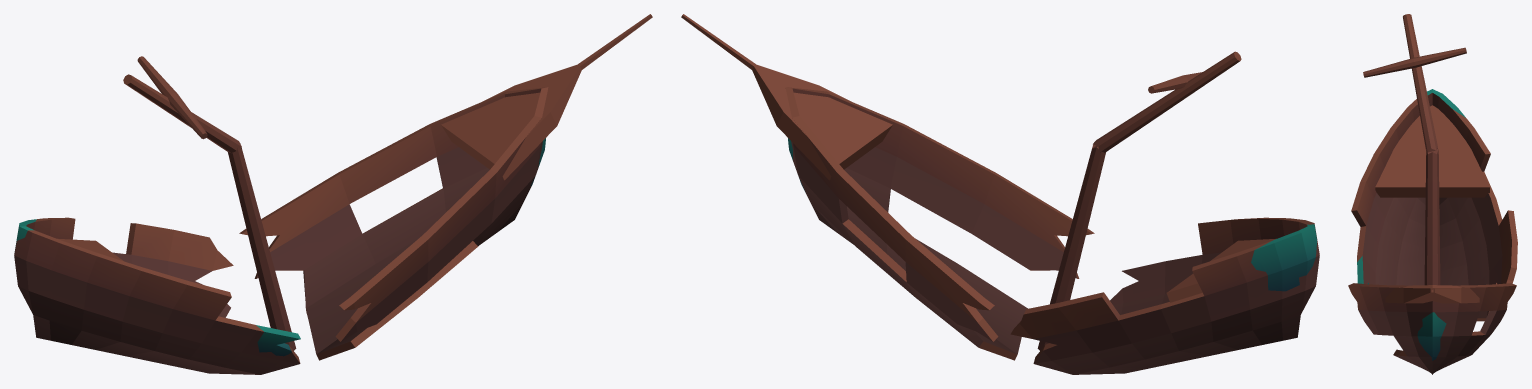
File: ship.fbx
3 views of the same model, side by side, from view 1: azimuth 30°, elevation 25°; view 2: azimuth 150°, elevation 25°; view 3: azimuth 270°, elevation 25° (orthographic). The views are drawn at different scales.
Parts seen in each view (by area): view 1: ship; view 2: ship; view 3: ship.
Boxes of the visible parts, box(x1,y1,x2,y2) form: ship: box(14, 14, 652, 374); ship: box(681, 14, 1319, 374); ship: box(1348, 14, 1517, 374).
Bounding box in the file's own units: 16.97 × 8.82 × 4.87.
